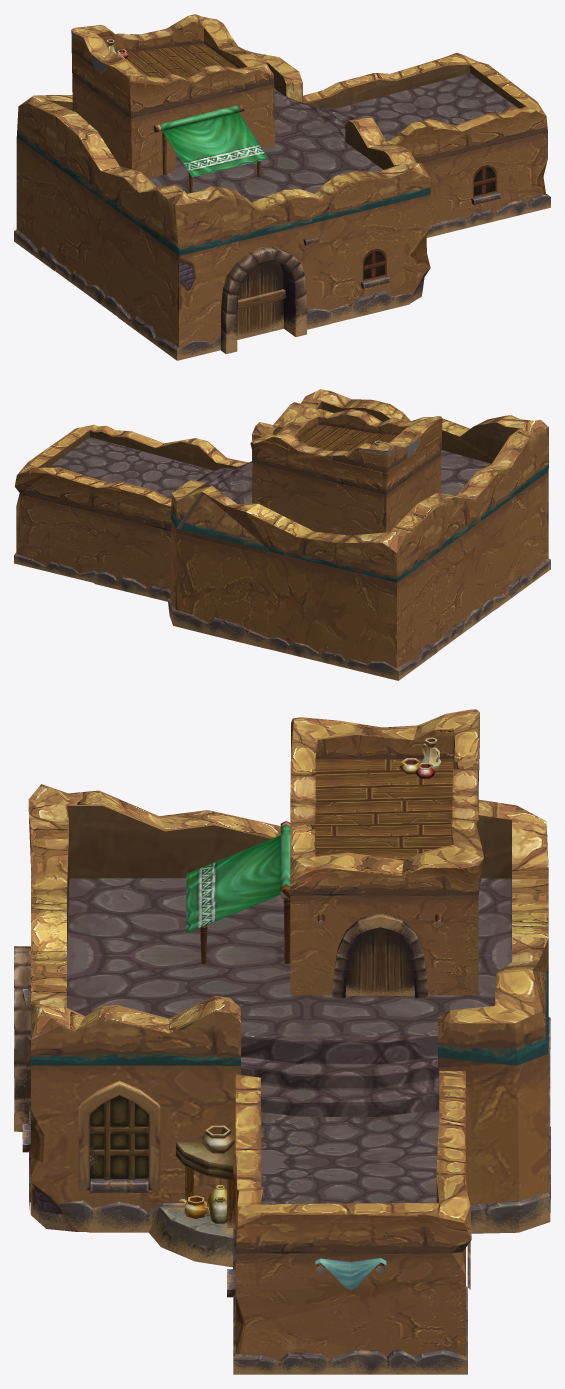
The model's file is fangzi05.FBX.
3 renders of one model, top to bottom at view 1: azimuth 30°, elevation 25°; view 2: azimuth 150°, elevation 25°; view 3: azimuth 270°, elevation 25°, orthographic. The views are drawn at different scales.
Parts seen in each view (by area): view 1: fangzi05; view 2: fangzi05; view 3: fangzi05.
Part boxes in pixels (x1=…): fangzi05: x1=14, y1=14, x2=550, y2=360; fangzi05: x1=14, y1=389, x2=550, y2=680; fangzi05: x1=14, y1=709, x2=550, y2=1374.
Bounding box in the file's own units: 419 × 199 × 275.
